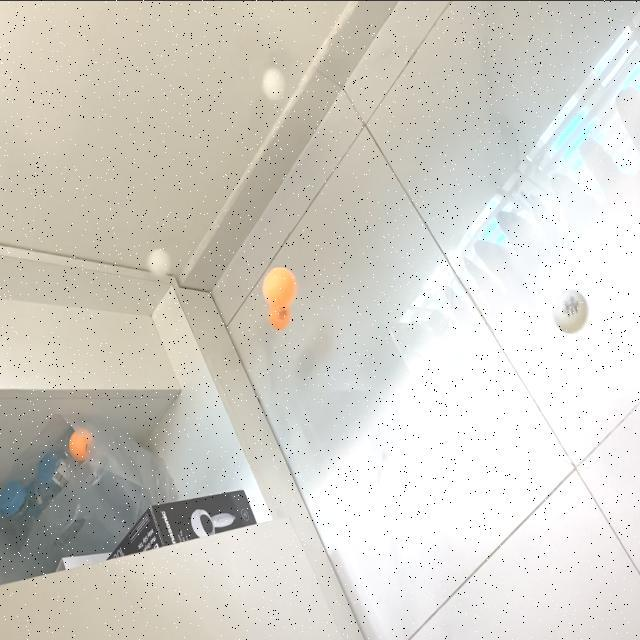ping-pong-ball: (554, 290, 590, 330), (262, 266, 296, 308), (262, 66, 286, 100), (147, 246, 172, 276), (70, 428, 94, 459), (268, 298, 292, 328)
